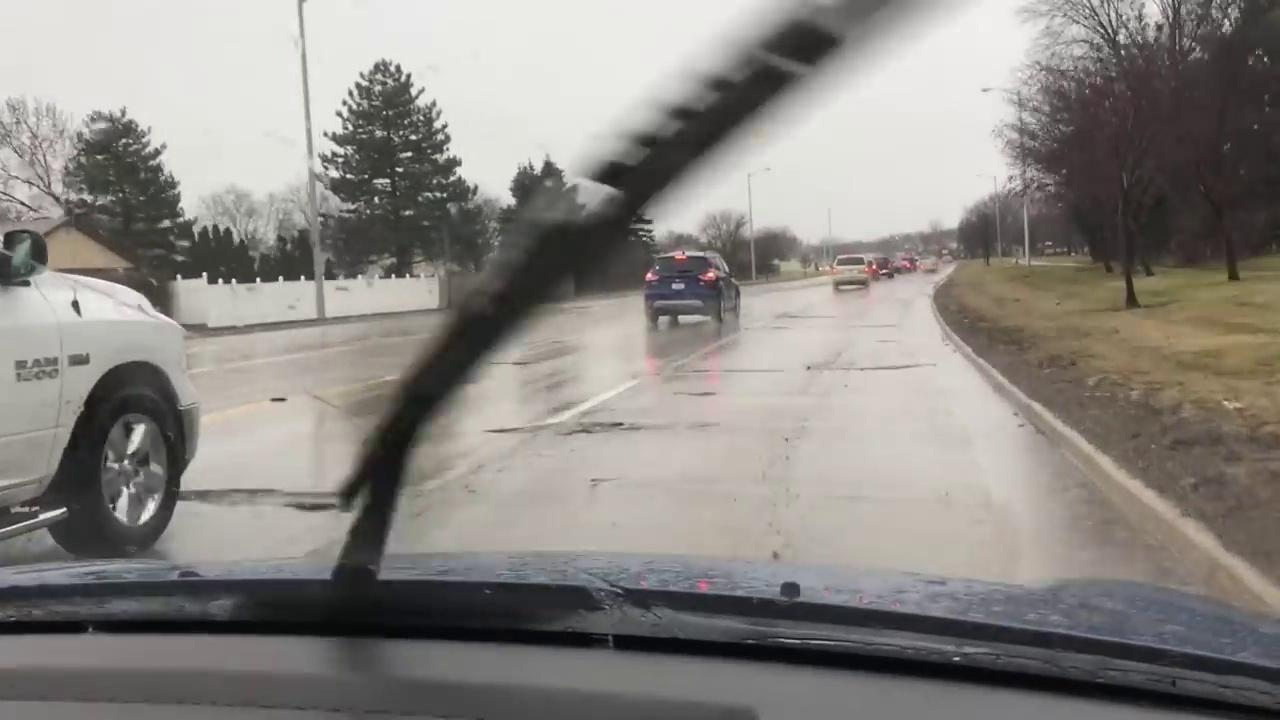pothole: (565, 421, 646, 434), (687, 391, 716, 396), (270, 396, 287, 402)
